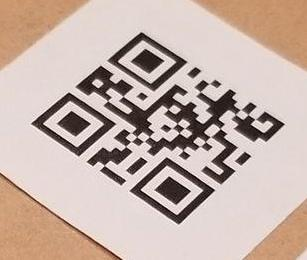qrcode: (32, 32, 285, 225)
